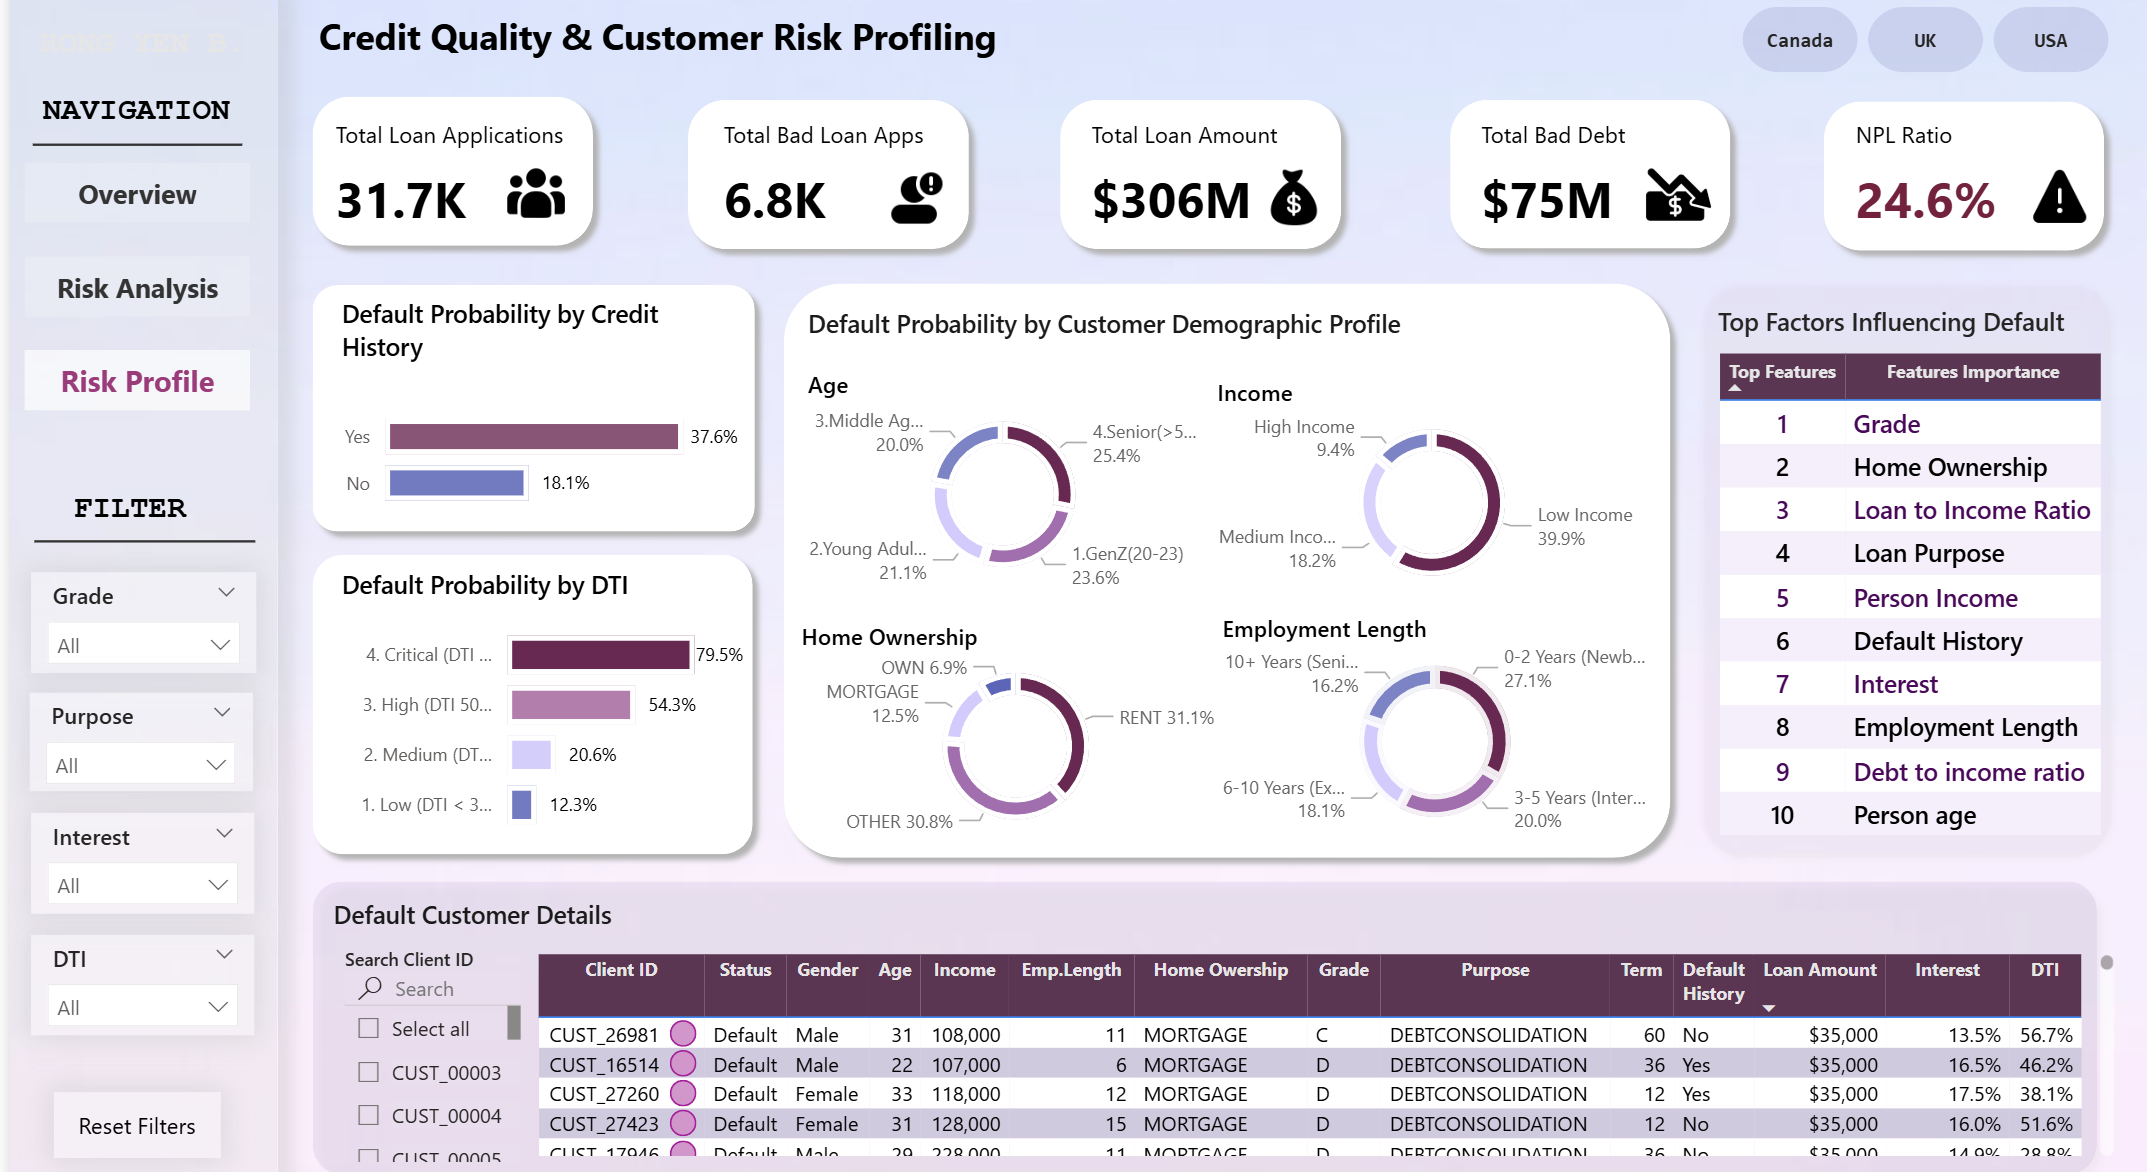

This screenshot's page, from the dashboard's own definition file:
{"tool":"powerbi","page":{"name":"Risk Profile","canvas":[1280,720],"ordinal":2},"visuals":[{"type":"shape","box":[0,0,159.8,719.6],"z":0,"group":"g6"},{"type":"group","id":"g1","title":"Report 3-KPI","box":[173.2,59.4,1086.9,107.3],"z":0},{"type":"shape","box":[397.6,61.3,184,105.3],"z":0,"group":"g1"},{"type":"shape","box":[1001.3,167.8,261.1,359.3],"z":0,"group":"g7"},{"type":"shape","box":[455,171.2,546.1,359.6],"z":0,"group":"g3"},{"type":"shape","box":[173.5,172.3,280.5,163.5],"z":0,"group":"g2"},{"type":"shape","box":[173.2,333.4,279.1,195.1],"z":0,"group":"g4"},{"type":"shape","box":[173.2,528.6,1083,191.3],"z":0,"group":"g5"},{"type":"actionButton","title":"Reset filter3","box":[26.2,662.4,99.5,39.3],"z":500,"group":"g6"},{"type":"shape","box":[173.2,59.4,183.6,105.2],"z":1000,"group":"g1"},{"type":"group","id":"g2","title":"Report 3- Chart 1","box":[173.5,172.3,280.5,167.8],"z":1000},{"type":"barChart","title":"Default Probability by Credit History","fields":{"Category":["dim_credit_history.Person_Default_History"],"Y":["_Measures.Default Rate %"]},"box":[193.5,187,246.8,153.2],"z":1000,"group":"g2"},{"type":"textbox","box":[472.6,188,382.9,37.9],"z":1000,"group":"g3"},{"type":"barChart","title":"Default Probability by DTI","fields":{"Category":["fact_loan_details.DTI Risk Segment"],"Y":["_Measures.Default Rate %"]},"box":[193.3,348.7,250,171.2],"z":1000,"group":"g4"},{"type":"slicer","fields":{"Values":["credit_risk fact_loan_details.loan_grade"]},"box":[12.3,351.6,134.8,60.2],"z":1000,"group":"g6"},{"type":"tableEx","title":"Customer Details","fields":{"Values":["dim_customer.client_ID","fact_loan_details.Loan label","dim_customer.gender","dim_customer.person_age","dim_customer.person_income","dim_customer.person_emp_length","dim_customer.person_home_ownership","fact_loan_details.loan_grade","fact_loan_details.loan_intent","fact_loan_details.loan_term_months","dim_credit_history.Person_Default_History","fact_loan_details.loan_amnt"]},"box":[310.5,575.3,953.4,130.4],"z":1000,"group":"g5"},{"type":"textbox","box":[12.3,20.5,143.8,36],"z":2000,"group":"g6"},{"type":"shape","box":[853,60.9,183.5,105],"z":2000,"group":"g1"},{"type":"group","id":"g3","title":"Report 3- Chart 3","box":[455,171.2,546.3,359.3],"z":2000},{"type":"donutChart","title":"Age","fields":{"Y":["_Measures.Default Rate %"],"Category":["dim_customer.Age Group"]},"box":[472.6,230.8,242.9,136],"z":2000,"group":"g3"},{"type":"slicer","title":"Search Client ID","fields":{"Values":["fact_loan_details.client_ID"]},"box":[195.2,575.3,115.3,133.6],"z":2000,"group":"g5"},{"type":"shape","box":[1077.2,62.3,183.5,105.3],"z":3000,"group":"g1"},{"type":"pageNavigator","box":[9.1,107.1,135,150.3],"z":3000,"group":"g6"},{"type":"donutChart","title":"Income","fields":{"Y":["_Measures.Default Rate %"],"Category":["dim_customer.Income Segment"]},"box":[717.4,235.3,266.3,136],"z":3000,"group":"g3"},{"type":"group","id":"g4","title":"Report 3- Chart 2","box":[173.2,333.4,279.1,195.1],"z":3000},{"type":"textbox","box":[188.6,541.6,196.6,36.9],"z":3000,"group":"g5"},{"type":"shape","box":[620.1,61.3,184,105.3],"z":4000,"group":"g1"},{"type":"textbox","box":[32.8,297.9,93.5,38],"z":4000,"group":"g6"},{"type":"donutChart","title":"Home Ownership","fields":{"Y":["_Measures.Default Rate %"],"Category":["dim_customer.person_home_ownership"]},"box":[468.6,381.1,266.3,136],"z":4000,"group":"g3"},{"type":"shape","box":[13.3,80.1,125.3,32.9],"z":5000,"group":"g6"},{"type":"image","box":[977,106.1,42.8,39.8],"z":5000,"group":"g1"},{"type":"donutChart","title":"Employment Length","fields":{"Y":["_Measures.Default Rate %"],"Category":["dim_customer.Emp Length Group"]},"box":[720.3,376.2,264.3,139.9],"z":5000,"group":"g3"},{"type":"group","id":"g5","title":"Report 3- Chart 5","box":[173.2,528.6,1090.7,191.3],"z":5000},{"type":"group","id":"g6","title":"Navigator Pane - Report 3","box":[0,0,159.8,719.6],"z":6000},{"type":"image","box":[1209.3,109,34,36],"z":6000,"group":"g1"},{"type":"shape","box":[14.8,316.6,132.1,33],"z":6000,"group":"g6"},{"type":"textbox","box":[14.4,60.6,141.8,38],"z":6500,"group":"g6"},{"type":"image","box":[298,107,34.2,36.4],"z":7000,"group":"g1"},{"type":"slicer","fields":{"Values":["fact_loan_details.DTI Risk Segment"]},"box":[12.3,568.9,133.5,60.2],"z":7000,"group":"g6"},{"type":"image","box":[751.6,110,33,36],"z":8000,"group":"g1"},{"type":"slicer","fields":{"Values":["fact_loan_details.loan_intent"]},"box":[12.1,423.8,133.3,59.2],"z":8000,"group":"g6"},{"type":"image","box":[524.9,104.8,36,45],"z":9000,"group":"g1"},{"type":"slicer","fields":{"Values":["fact_loan_details.Interest Rate Group"]},"box":[12.3,495.6,133.5,60.2],"z":9000,"group":"g6"},{"type":"cardVisual","fields":{"Data":["_Measures.Total Loan Applications","_Measures.Total Bad Loan Apps","_Measures.Total Loan Amount","_Measures.Total Bad Debt","_Measures.NPL Ratio"]},"box":[179.1,65.9,1079.6,96.2],"z":10000,"group":"g1"},{"type":"tableEx","title":"Top Factors Influencing Default","fields":{"Values":["Sum(Table.Top Features)","Table.Features Importance"]},"box":[1017,190.7,241,324.4],"z":10000,"group":"g7"},{"type":"group","id":"g7","title":"Report 3- Chart 4","box":[1001.3,167.8,260.2,359.3],"z":10001},{"type":"advancedSlicerVisual","fields":{"Values":["dim_location.country"]},"box":[1030.9,8.9,230.3,49.4],"z":10251},{"type":"textbox","box":[180,11.4,428.2,47.8],"z":10501}]}

Visuals, with their boxes on the page's 1280x720 design canvas (x1, y1, x2, y2). These are canvas units, not pixel positions in the 2147x1172 screenshot, which may show the page scaled, cropped or inside an application window:
shape: box=[0, 0, 160, 720]
"Report 3-KPI" group: box=[173, 59, 1260, 167]
shape: box=[398, 61, 582, 167]
shape: box=[1001, 168, 1262, 527]
shape: box=[455, 171, 1001, 531]
shape: box=[174, 172, 454, 336]
shape: box=[173, 333, 452, 528]
shape: box=[173, 529, 1256, 720]
"Reset filter3" actionButton: box=[26, 662, 126, 702]
shape: box=[173, 59, 357, 165]
"Report 3- Chart 1" group: box=[174, 172, 454, 340]
"Default Probability by Credit History" barChart: box=[194, 187, 440, 340]
textbox: box=[473, 188, 856, 226]
"Default Probability by DTI" barChart: box=[193, 349, 443, 520]
slicer - credit_risk fact_loan_details.loan_grade: box=[12, 352, 147, 412]
"Customer Details" tableEx: box=[310, 575, 1264, 706]
textbox: box=[12, 20, 156, 56]
shape: box=[853, 61, 1036, 166]
"Report 3- Chart 3" group: box=[455, 171, 1001, 530]
"Age" donutChart: box=[473, 231, 716, 367]
"Search Client ID" slicer: box=[195, 575, 310, 709]
shape: box=[1077, 62, 1261, 168]
pageNavigator: box=[9, 107, 144, 257]
"Income" donutChart: box=[717, 235, 984, 371]
"Report 3- Chart 2" group: box=[173, 333, 452, 528]
textbox: box=[189, 542, 385, 578]
shape: box=[620, 61, 804, 167]
textbox: box=[33, 298, 126, 336]
"Home Ownership" donutChart: box=[469, 381, 735, 517]
shape: box=[13, 80, 139, 113]
image: box=[977, 106, 1020, 146]
"Employment Length" donutChart: box=[720, 376, 985, 516]
"Report 3- Chart 5" group: box=[173, 529, 1264, 720]
"Navigator Pane - Report 3" group: box=[0, 0, 160, 720]
image: box=[1209, 109, 1243, 145]
shape: box=[15, 317, 147, 350]
textbox: box=[14, 61, 156, 99]
image: box=[298, 107, 332, 143]
slicer - fact_loan_details.DTI Risk Segment: box=[12, 569, 146, 629]
image: box=[752, 110, 785, 146]
slicer - fact_loan_details.loan_intent: box=[12, 424, 145, 483]
image: box=[525, 105, 561, 150]
slicer - fact_loan_details.Interest Rate Group: box=[12, 496, 146, 556]
cardVisual - _Measures.Total Loan Applications x _Measures.Total Bad Loan Apps: box=[179, 66, 1259, 162]
"Top Factors Influencing Default" tableEx: box=[1017, 191, 1258, 515]
"Report 3- Chart 4" group: box=[1001, 168, 1262, 527]
advancedSlicerVisual - dim_location.country: box=[1031, 9, 1261, 58]
textbox: box=[180, 11, 608, 59]
